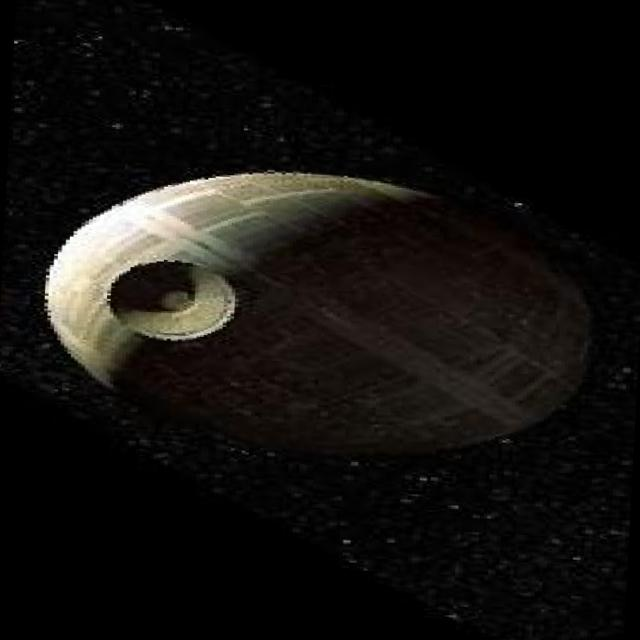Death Star: (33, 151, 601, 462)
